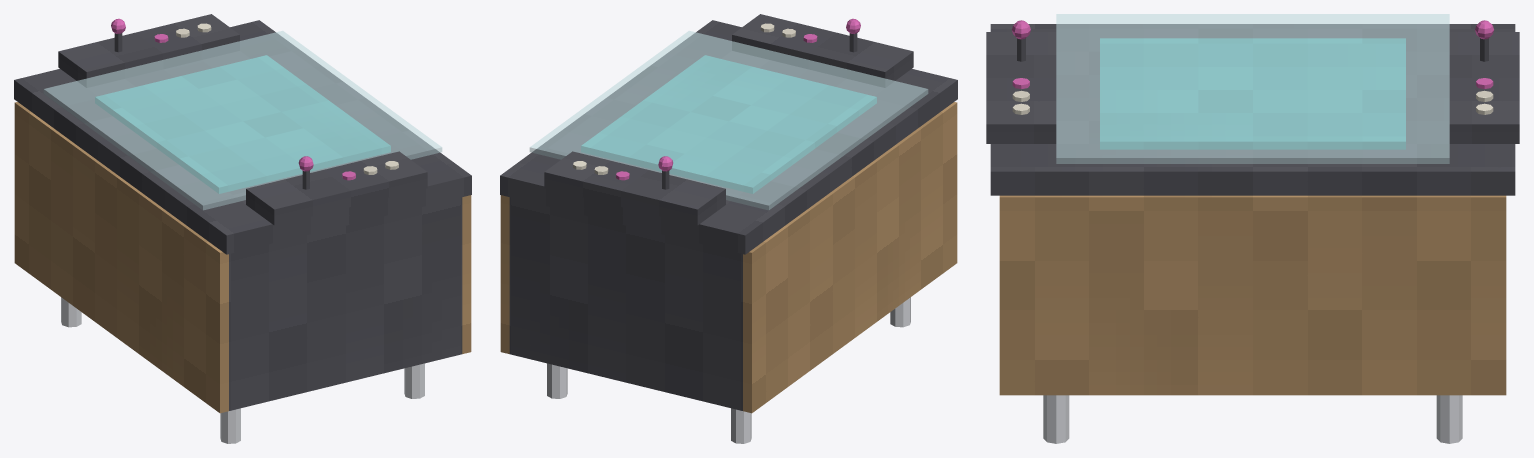
Rendered from three-d-retro-arcade-and-mall-1989-retro-arcade-and-mall-1989-cocktail-table-cabinet-e5d2dbb9.glb.
The picture shows the model from 3 angles, left to right: view 1: azimuth 30°, elevation 25°; view 2: azimuth 150°, elevation 25°; view 3: azimuth 270°, elevation 25°; orthographic projection. The views are drawn at different scales.
Parts seen in each view (by area): view 1: cocktail-table-cabinet; view 2: cocktail-table-cabinet; view 3: cocktail-table-cabinet.
Boxes of the visible parts, x1,y1,x2,y2 form: cocktail-table-cabinet: [14, 14, 471, 443]; cocktail-table-cabinet: [500, 14, 957, 443]; cocktail-table-cabinet: [986, 14, 1519, 443].
Size of the model in its own units: 0.82 by 0.867 by 1.22.
7 materials, 5 textured.
